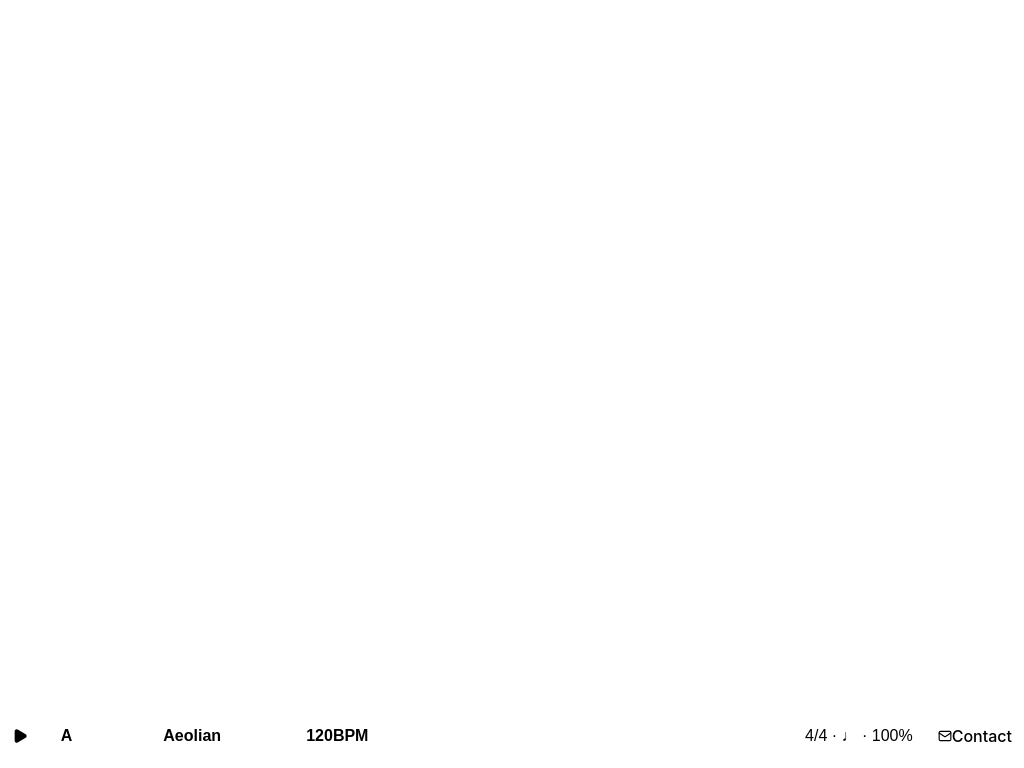
Test case: key pop-up sets key and major/minor in the shared store
Step 1. Click the button "A Aeolian" → (167, 736), box [40,720,293,752]
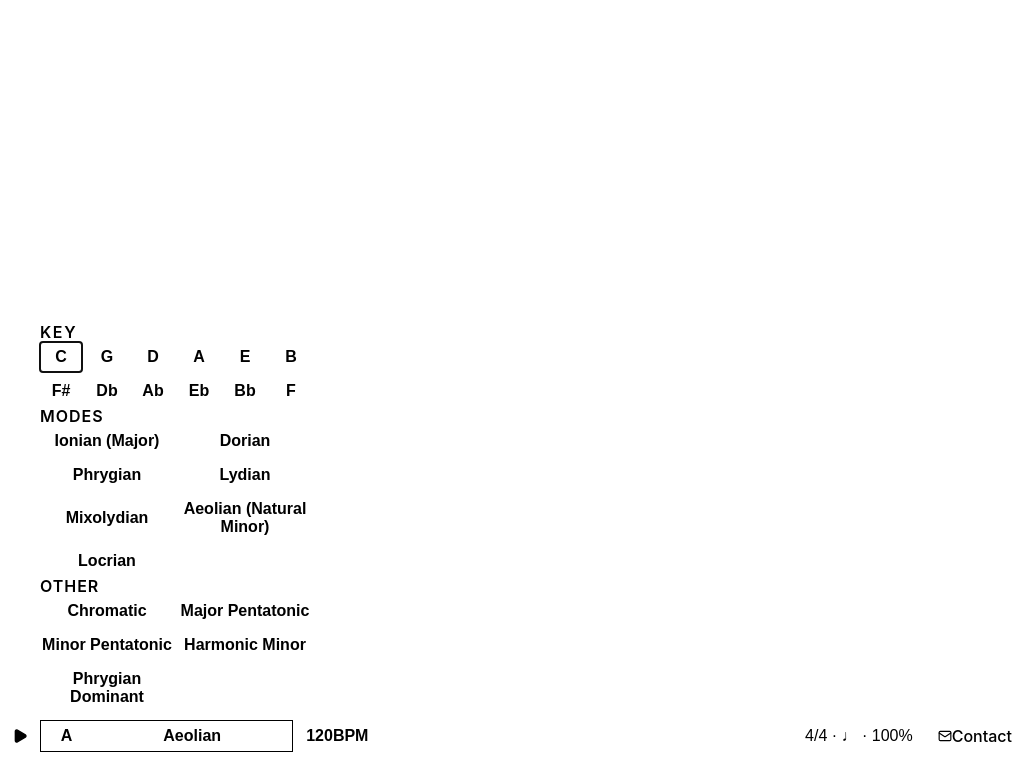
Step 2. Click the radio button labelled "E" → (245, 357), box [224,342,266,372]
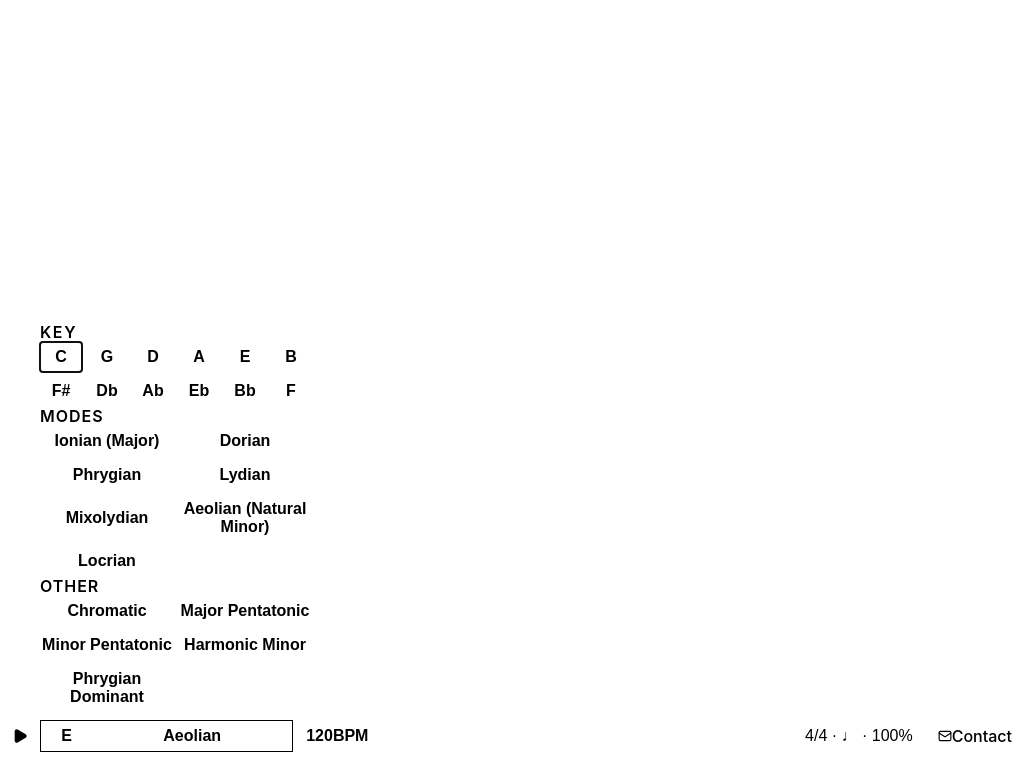
Step 3. Click the radio button labelled "Ionian (Major)" → (107, 441), box [40,426,174,456]
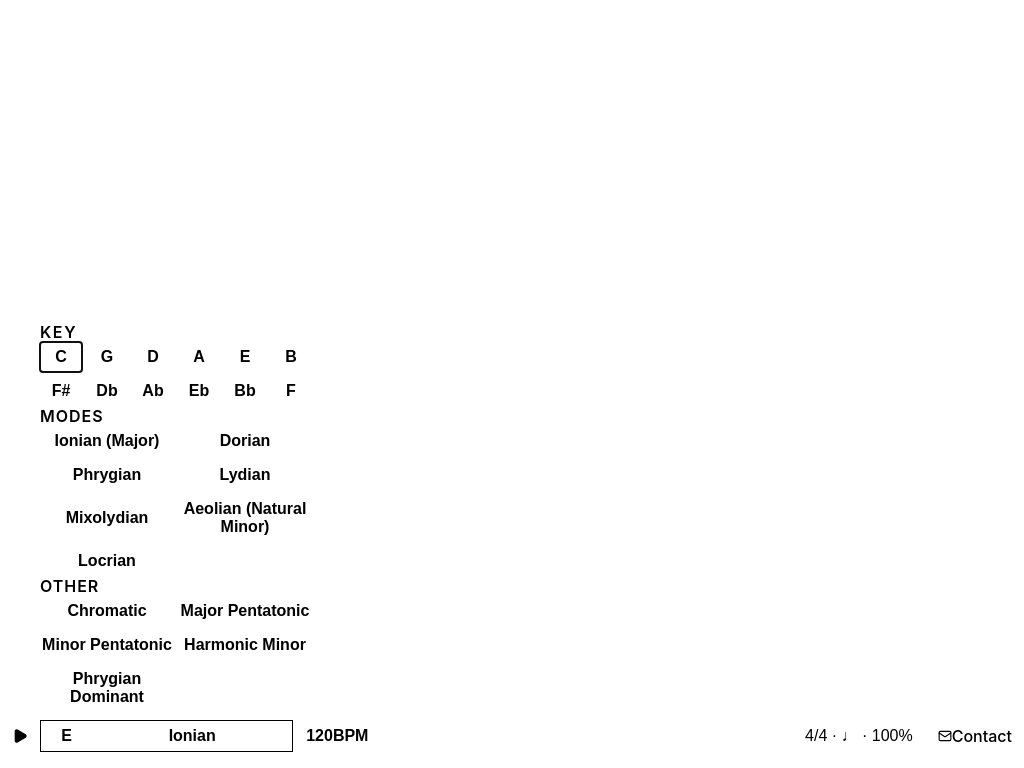
Step 4. Click the radio button labelled "Dorian" → (245, 441), box [178,426,312,456]
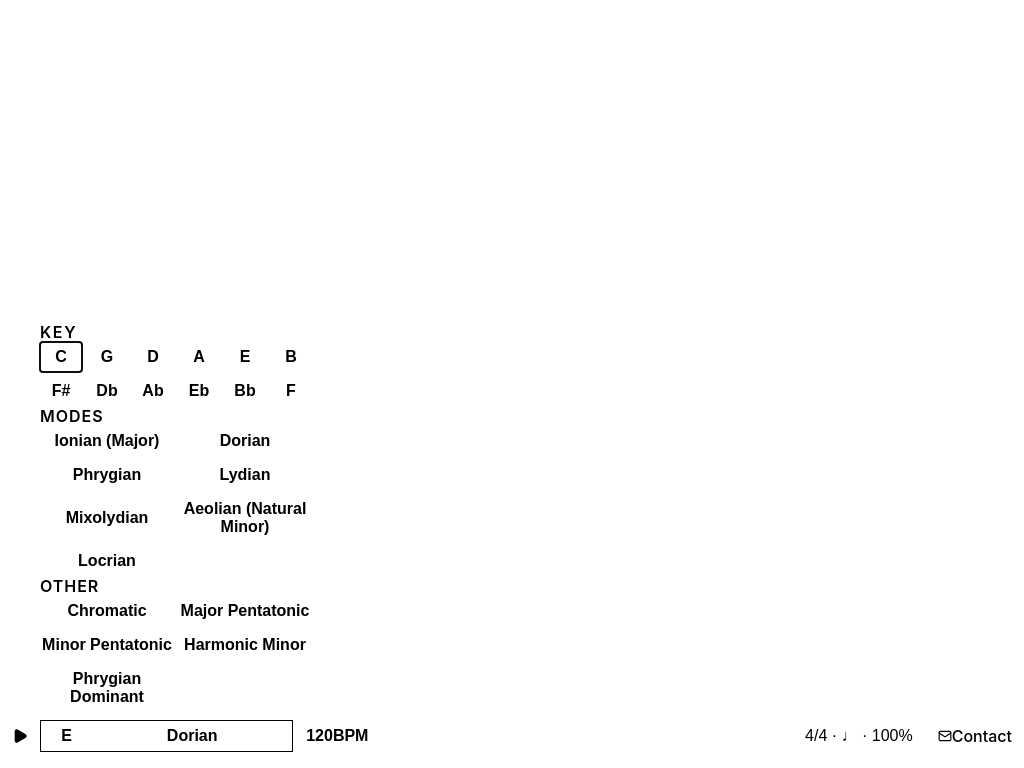
expect the text "Dorian" is shown: met, box [167,727,218,744]
Step 5. Click the radio button labelled "Chromatic" → (107, 611), box [40,596,174,626]
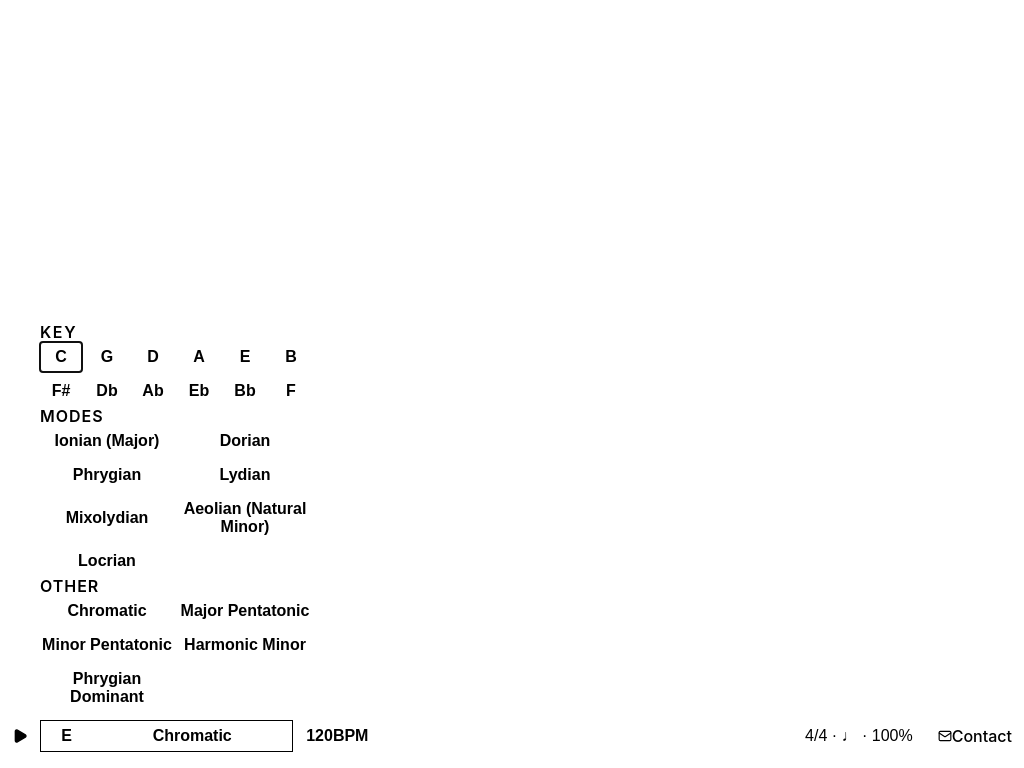
expect the text "Chromatic" is shown: met, box [153,727,232,744]
